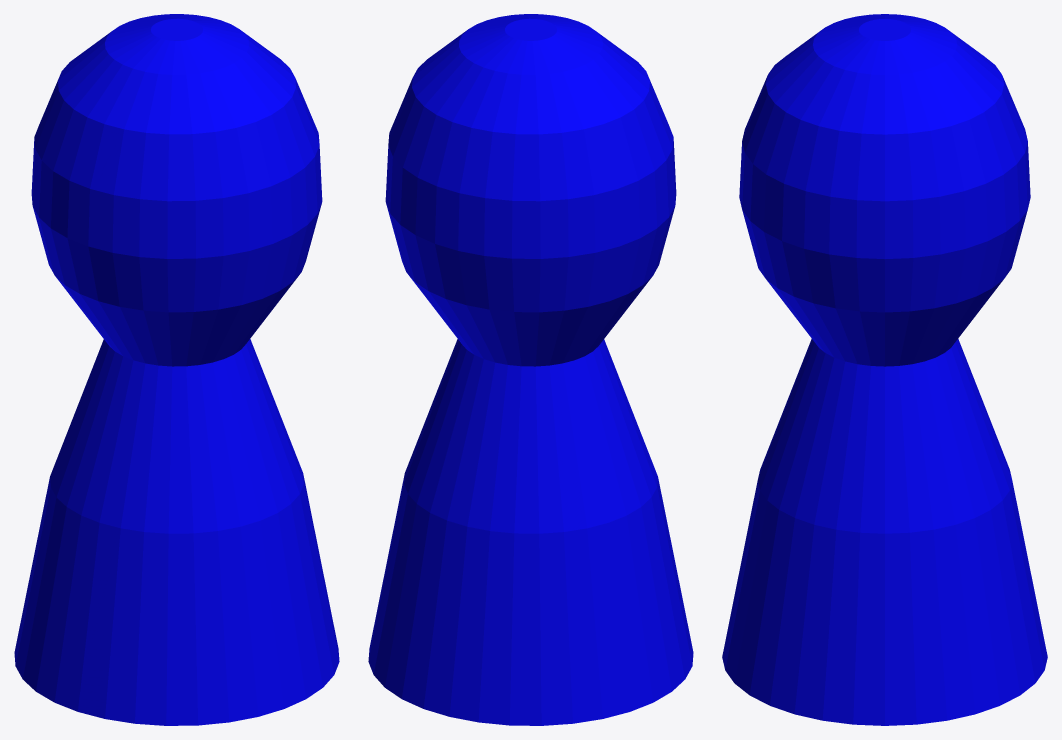
Rendered from blue_pawn.obj.
3 views of the same model, side by side, from view 1: azimuth 30°, elevation 25°; view 2: azimuth 150°, elevation 25°; view 3: azimuth 270°, elevation 25° (orthographic).
Visible parts, largest first — view 1: Circle; view 2: Circle; view 3: Circle.
Boxes of the visible parts, <box> form: Circle: <box>14,14,339,725</box>; Circle: <box>368,14,693,725</box>; Circle: <box>722,14,1047,725</box>.
Bounding box in the file's own units: 1.4 × 2.98 × 1.4.
